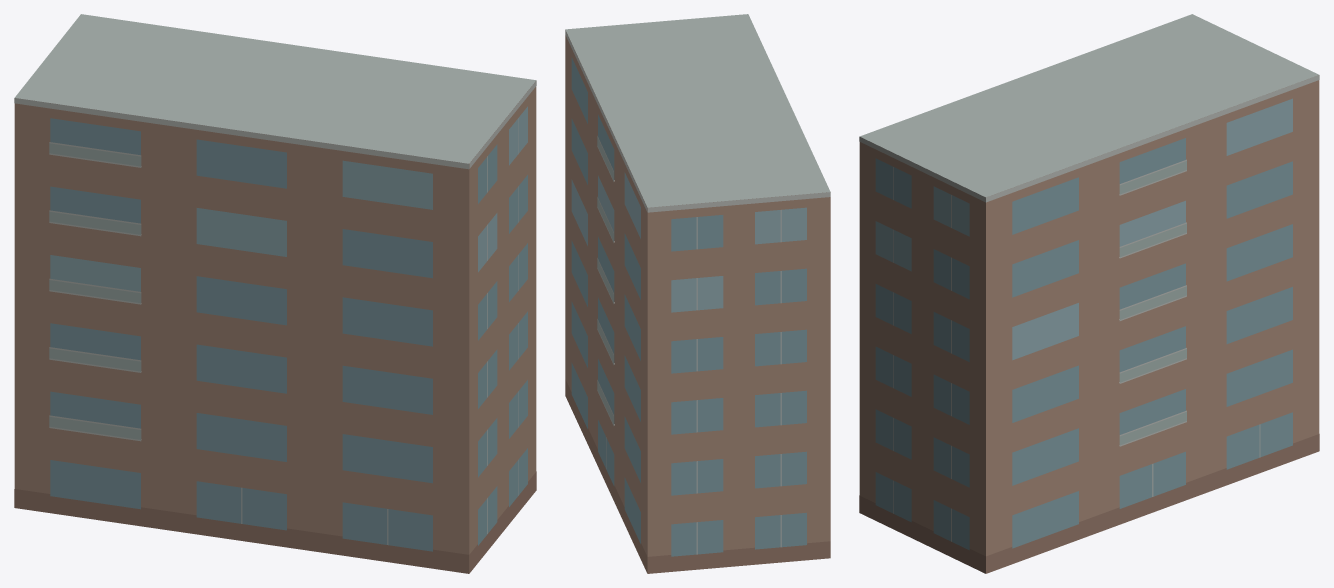
The model's file is survey-upis-32634965.glb.
The picture shows the model from 3 angles, left to right: view 1: azimuth 30°, elevation 25°; view 2: azimuth 150°, elevation 25°; view 3: azimuth 270°, elevation 25°; orthographic projection. The views are drawn at different scales.
Visible parts, largest first — view 1: survey-upis-32634965.tmp; view 2: survey-upis-32634965.tmp; view 3: survey-upis-32634965.tmp.
Boxes of the visible parts, x1,y1,x2,y2 form: survey-upis-32634965.tmp: [14, 14, 536, 573]; survey-upis-32634965.tmp: [565, 14, 830, 573]; survey-upis-32634965.tmp: [859, 14, 1319, 573].
Size of the model in its own units: 18.93 by 18.1 by 20.05.
